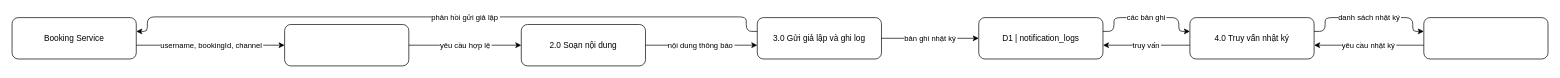
Some shapes in this 1560 by 78 pixel diagram are drawn without their labels. Here are the shapes that lost their labels. From the top down, the box of each, then its label:
(284, 24, 409, 66): 1.0 Nhận yêu cầu thông báo
(1423, 17, 1548, 59): Quản trị viên
